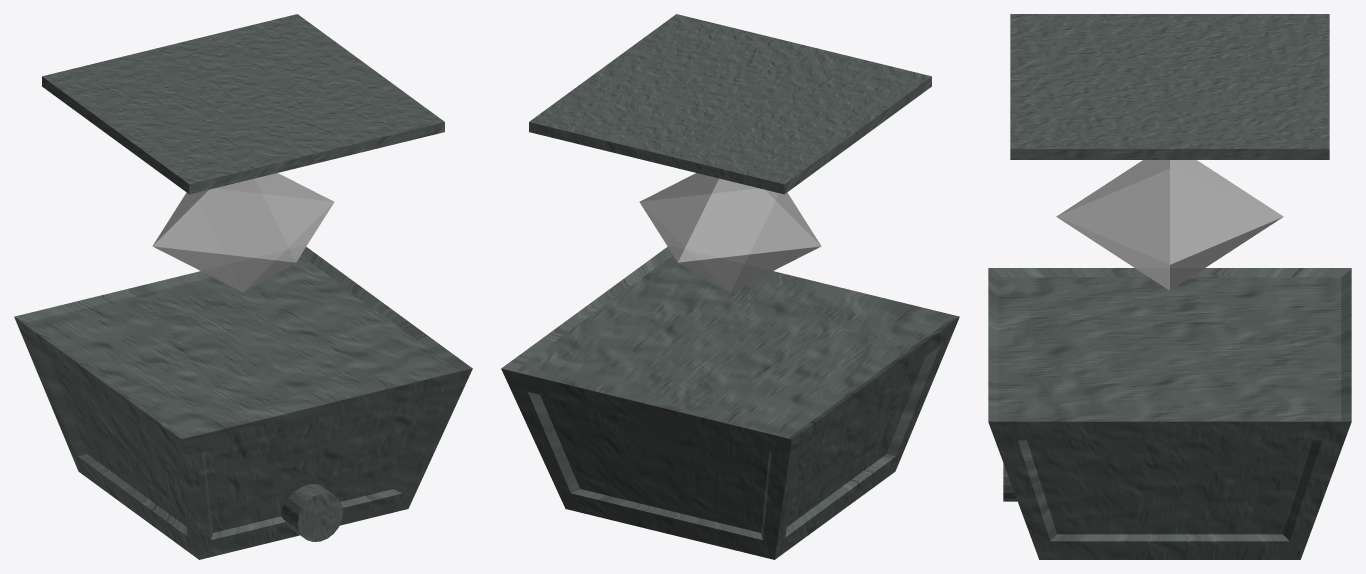
File: Electrical_equipment_off2.fbx
3 renders of one model, left to right at view 1: azimuth 30°, elevation 25°; view 2: azimuth 150°, elevation 25°; view 3: azimuth 270°, elevation 25°, orthographic. The views are drawn at different scales.
Visible parts, largest first — view 1: pCube3, pCone6, pCone3; view 2: pCube3, pCone6, pCone3; view 3: pCube3, pCone6, pCone3.
Part boxes in pixels (x1=…): pCube3: x1=14, y1=247, x2=472, y2=559; pCone6: x1=42, y1=14, x2=444, y2=194; pCone3: x1=152, y1=173, x2=334, y2=292; pCube3: x1=501, y1=247, x2=959, y2=559; pCone6: x1=529, y1=14, x2=931, y2=194; pCone3: x1=639, y1=173, x2=821, y2=292; pCube3: x1=988, y1=268, x2=1351, y2=559; pCone6: x1=1010, y1=14, x2=1329, y2=159; pCone3: x1=1056, y1=160, x2=1283, y2=290.
Bounding box in the file's own units: 12.18 × 15.64 × 12.18.
Materials: 3 (2 with a texture image).
